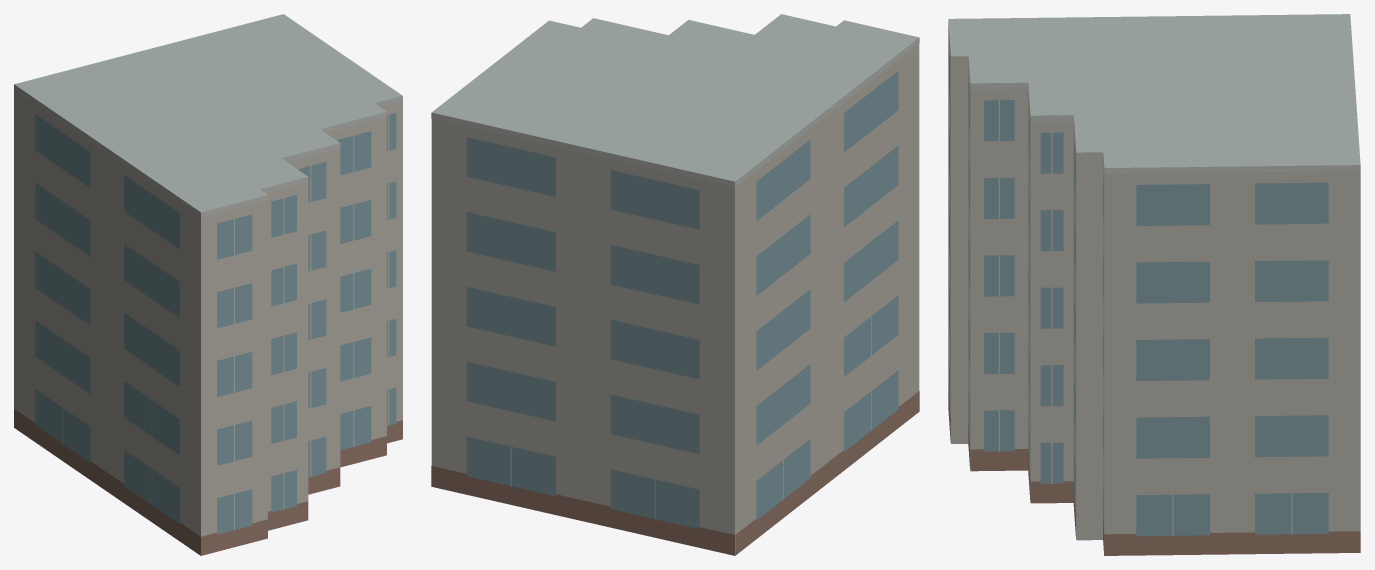
The model's file is survey-upis-32929406.glb.
3 renders of one model, left to right at view 1: azimuth 30°, elevation 25°; view 2: azimuth 150°, elevation 25°; view 3: azimuth 270°, elevation 25°, orthographic. The views are drawn at different scales.
Visible parts, largest first — view 1: survey-upis-32929406.tmp; view 2: survey-upis-32929406.tmp; view 3: survey-upis-32929406.tmp.
Part boxes in pixels (x1=…): survey-upis-32929406.tmp: x1=14, y1=14, x2=402, y2=555; survey-upis-32929406.tmp: x1=431, y1=14, x2=919, y2=555; survey-upis-32929406.tmp: x1=948, y1=14, x2=1360, y2=555.
Bounding box in the file's own units: 13.56 × 15.9 × 15.33.
